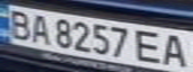2: (69, 18, 93, 53)
5: (90, 21, 112, 56)
7: (109, 24, 133, 60)
8: (51, 16, 75, 50)
A: (160, 31, 193, 69), (24, 12, 54, 45)
B: (3, 7, 36, 40)
E: (133, 28, 166, 65)
